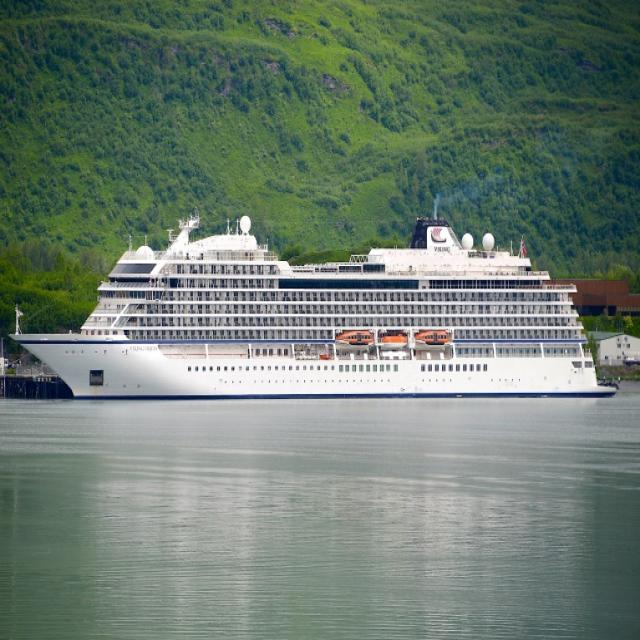cruises: (7, 183, 620, 406)
